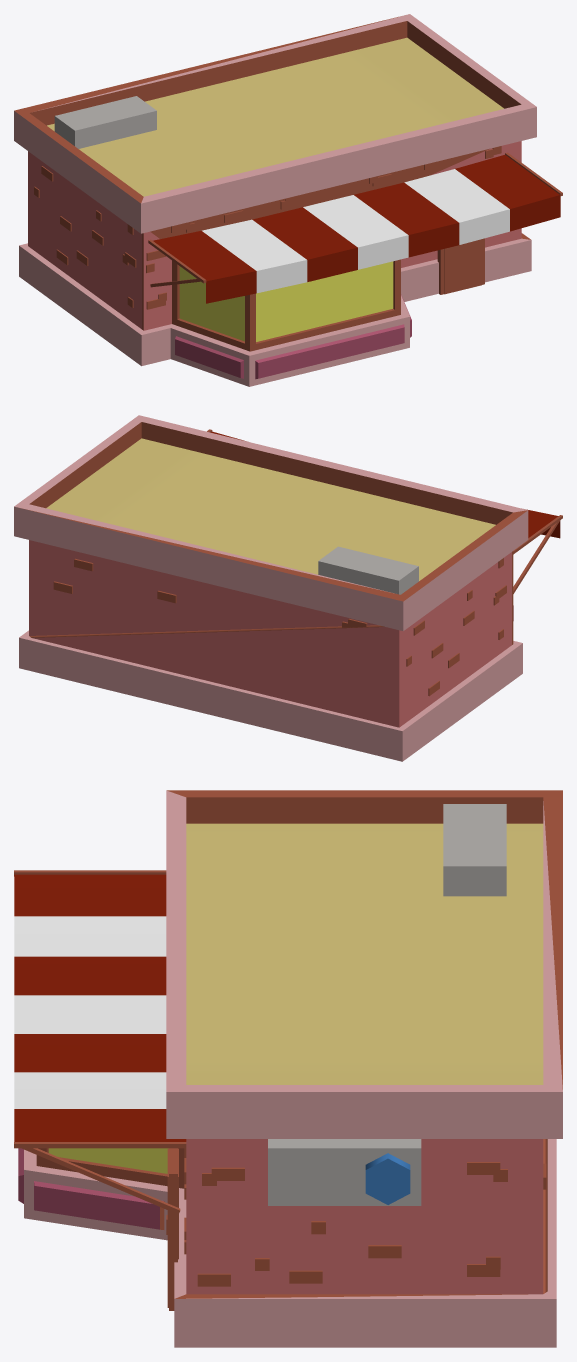
File: Target_Building_11.FBX
3 views of the same model, one above another, from view 1: azimuth 30°, elevation 25°; view 2: azimuth 150°, elevation 25°; view 3: azimuth 270°, elevation 25° (orthographic). The views are drawn at different scales.
Parts seen in each view (by area): view 1: 1; view 2: 1; view 3: 1.
Boxes of the visible parts, bbox=[...] form: 1: bbox=[14, 14, 562, 386]; 1: bbox=[14, 415, 562, 761]; 1: bbox=[14, 790, 562, 1347].
Bounding box in the file's own units: 266 × 104 × 198.
